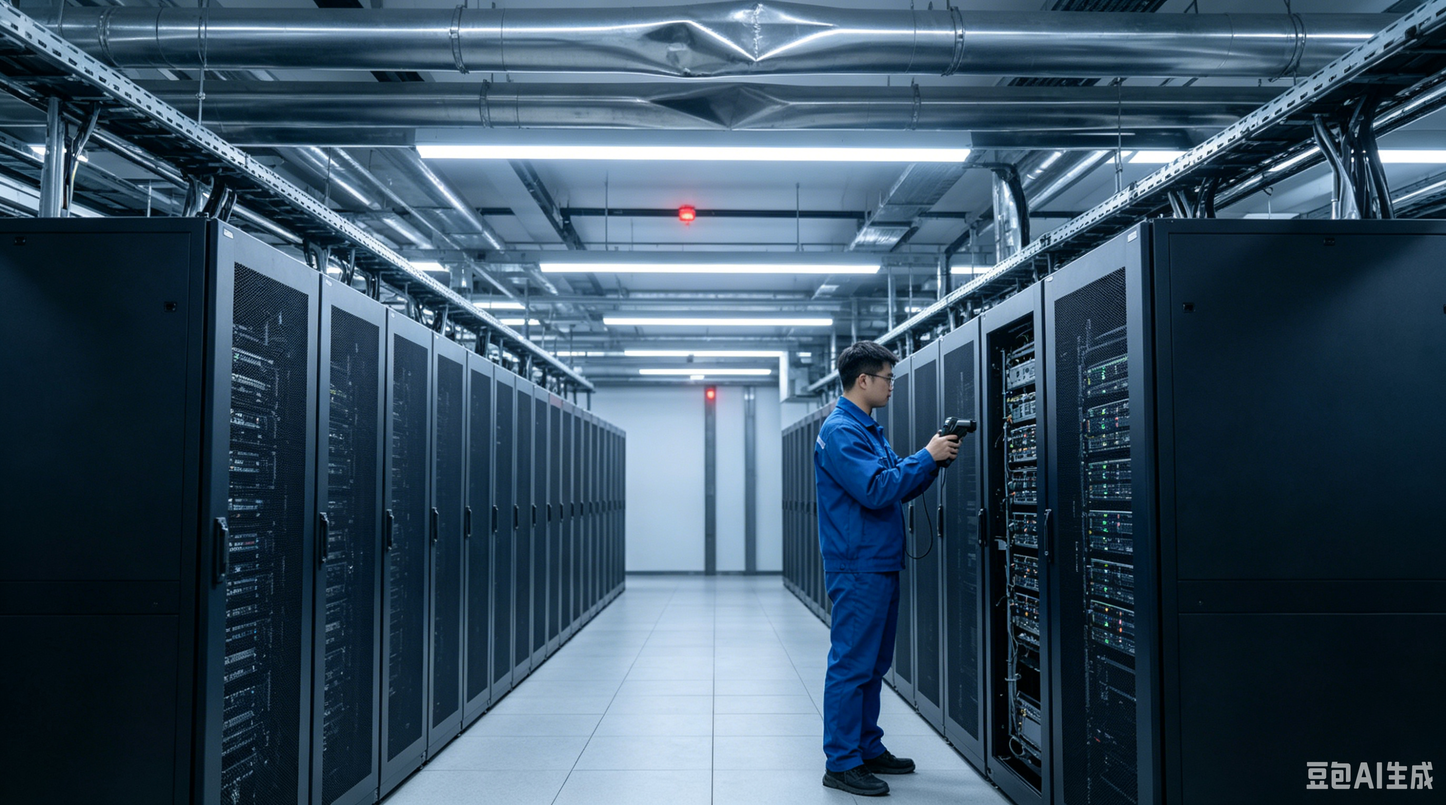Leakage: (606, 66, 814, 141), (697, 4, 909, 77), (621, 10, 761, 88)
